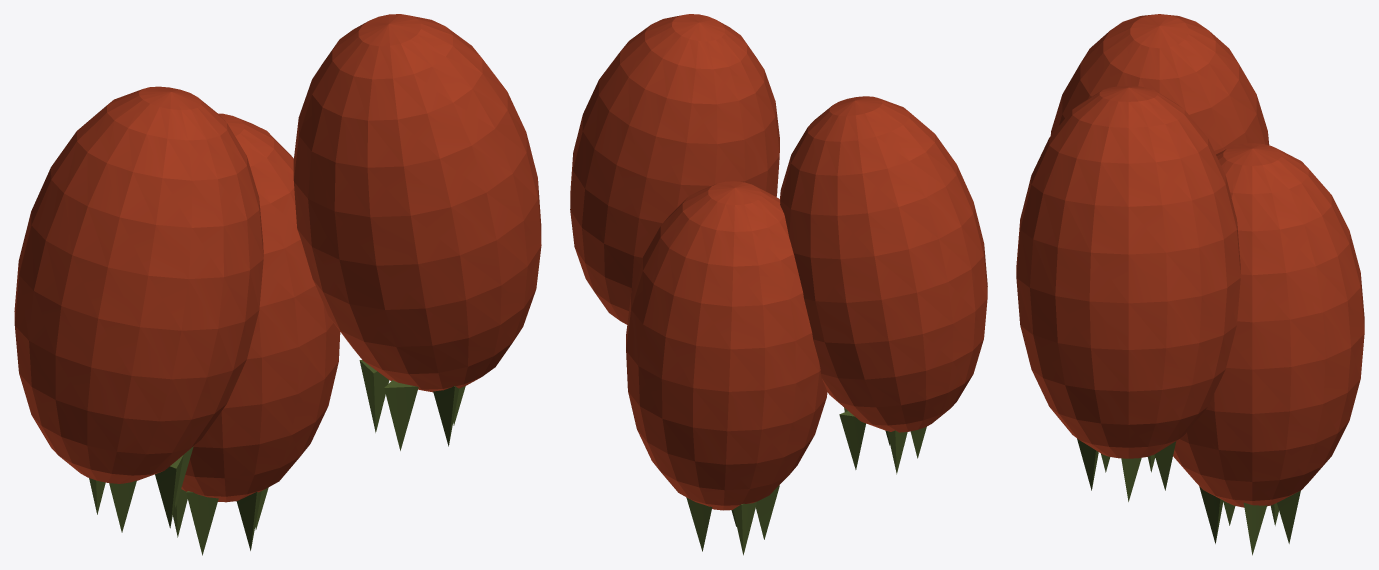
File: rosehip_cluster-tj5yJDke.glb
3 views of the same model, side by side, from view 1: azimuth 30°, elevation 25°; view 2: azimuth 150°, elevation 25°; view 3: azimuth 270°, elevation 25° (orthographic). The views are drawn at different scales.
Visible parts, largest first — view 1: Rosa_canina_rosehip_cluster; view 2: Rosa_canina_rosehip_cluster; view 3: Rosa_canina_rosehip_cluster.
Boxes of the visible parts, x1=… form: Rosa_canina_rosehip_cluster: x1=14, y1=14, x2=541, y2=555; Rosa_canina_rosehip_cluster: x1=570, y1=14, x2=987, y2=555; Rosa_canina_rosehip_cluster: x1=1016, y1=14, x2=1364, y2=555.
Bounding box in the file's own units: 0.0331 × 0.0355 × 0.0225.
